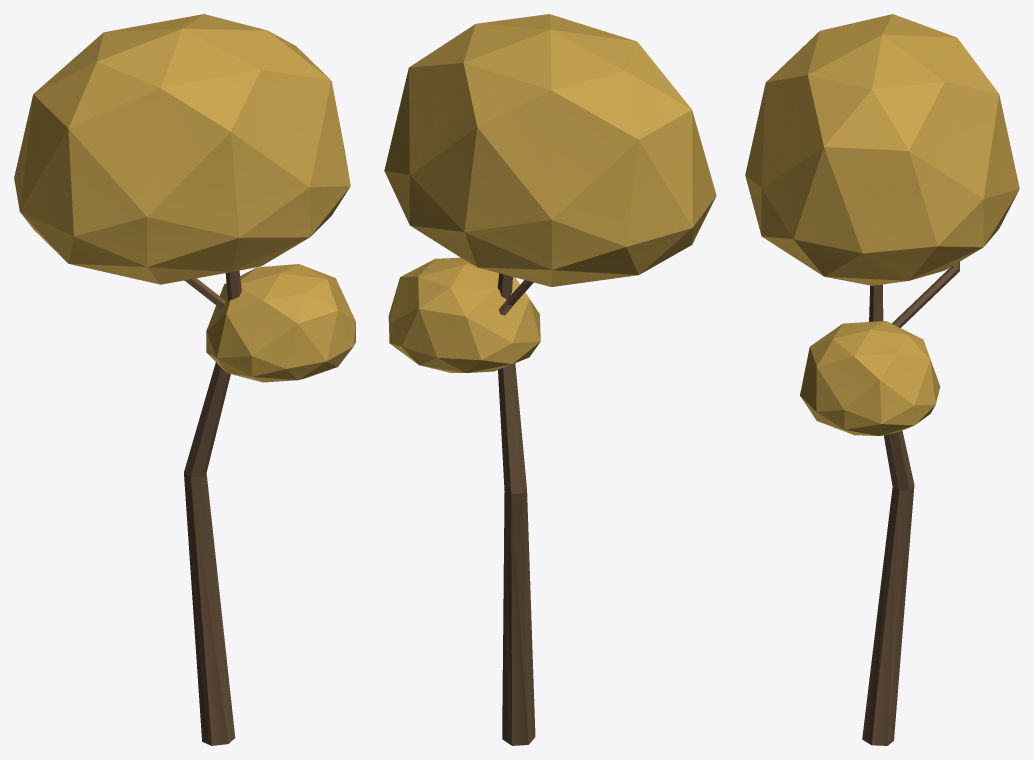
Rendered from tree_yellow_4.glb.
The picture shows the model from 3 angles, left to right: view 1: azimuth 30°, elevation 25°; view 2: azimuth 150°, elevation 25°; view 3: azimuth 270°, elevation 25°; orthographic projection. The views are drawn at different scales.
Parts seen in each view (by area): view 1: Tree Yellow 4; view 2: Tree Yellow 4; view 3: Tree Yellow 4.
Part boxes in pixels (x1,y1,x2,y2): Tree Yellow 4: (14,14,355,745); Tree Yellow 4: (384,14,716,745); Tree Yellow 4: (745,14,1019,745).
Bounding box in the file's own units: 0.1958 × 0.4277 × 0.154.
